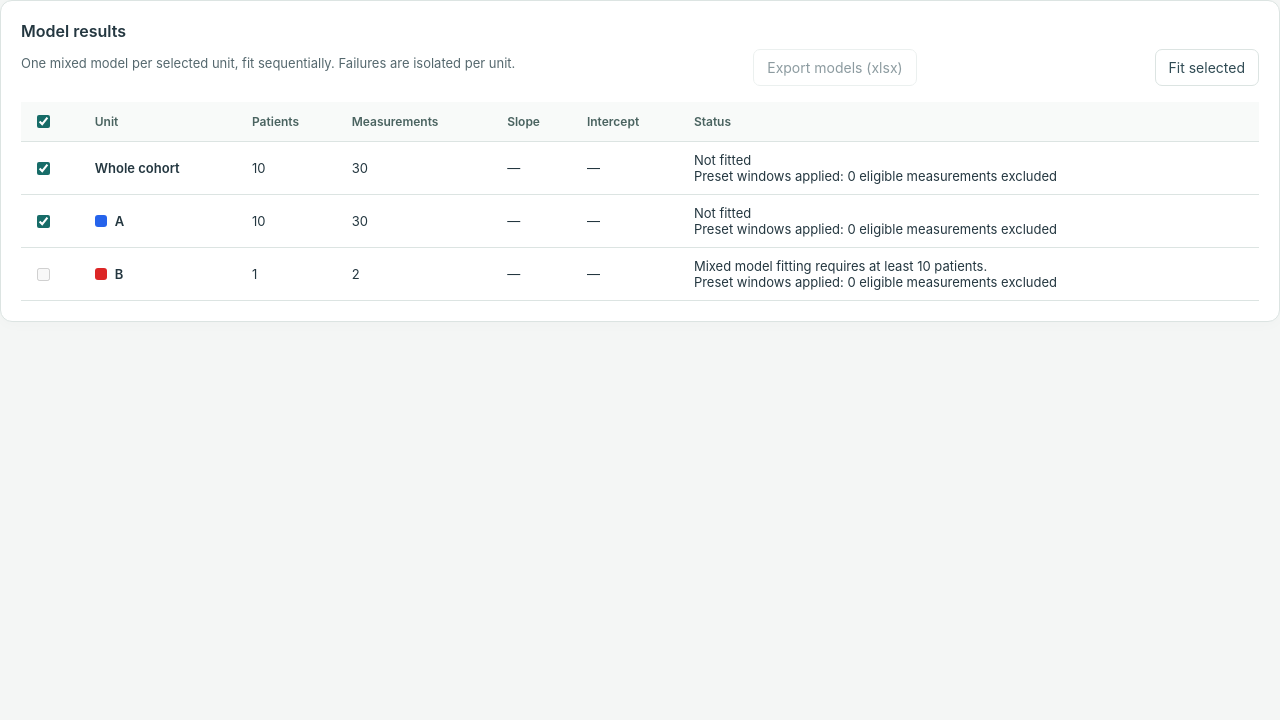
it: CohortModelTable › renders long technical details in dedicated wrapping cells
Click the button "Fit selected". click: point(1207, 68)
box: top-left (1154, 49), bottom-right (1259, 86)
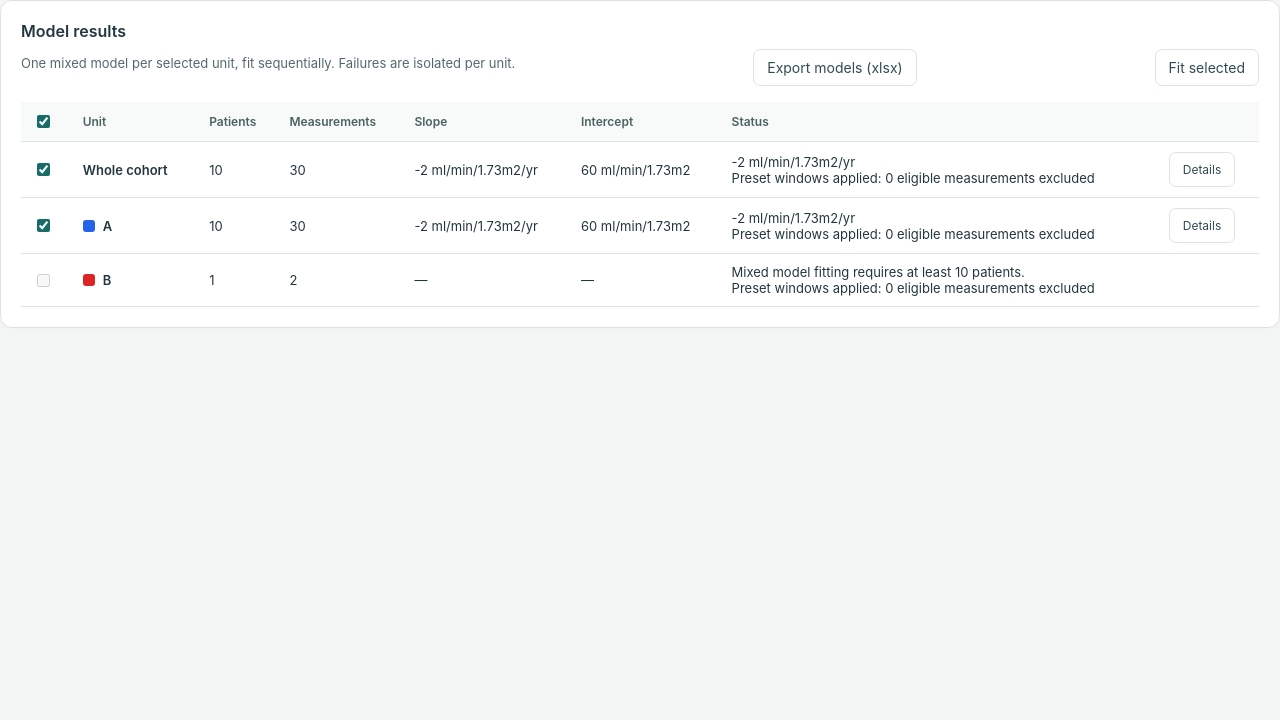
expect the cell with test id "cohort-model-status" in the row of "Whole cohort" shows "/yr": met, box top-left (720, 142), bottom-right (1157, 198)
Click the button "Details" in the row of "Whole cohort". click: point(1202, 170)
box: top-left (1169, 152), bottom-right (1235, 187)
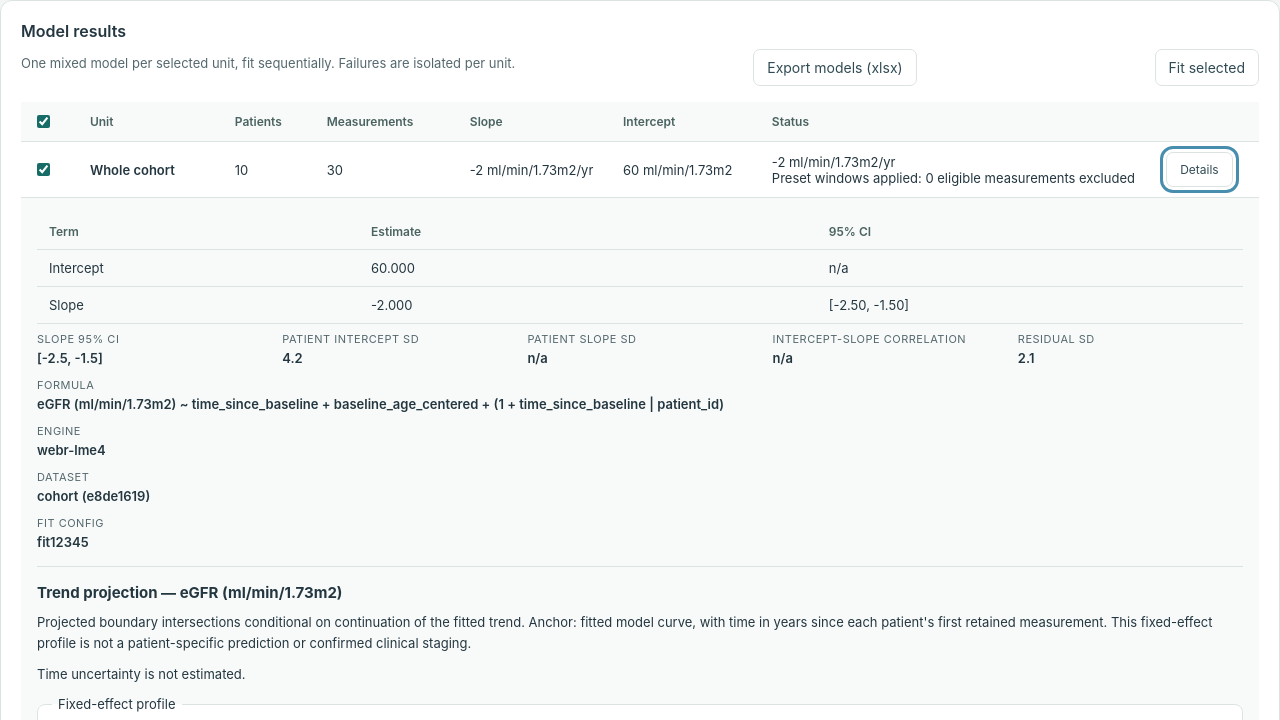
expect the text "[-2.5, -1.5]" is shown: met, box top-left (37, 350), bottom-right (103, 366)
